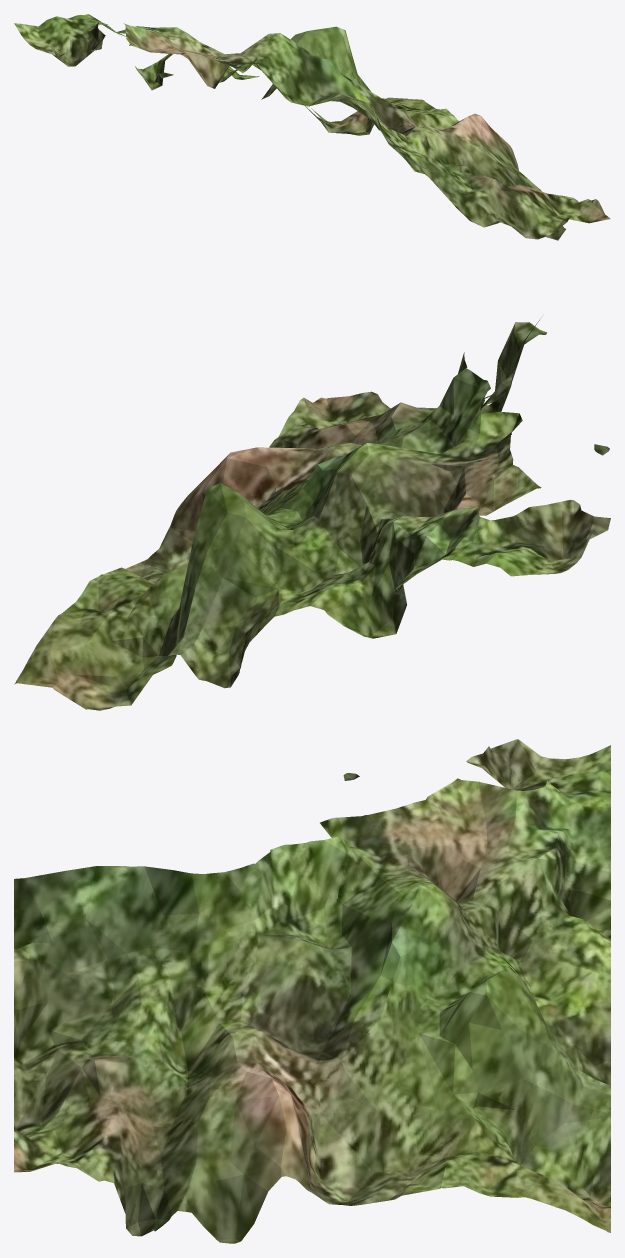
The picture shows the model from 3 angles, top to bottom: view 1: azimuth 30°, elevation 25°; view 2: azimuth 150°, elevation 25°; view 3: azimuth 270°, elevation 25°; orthographic projection. The views are drawn at different scales.
Bounding box in the file's own units: 2.95 × 1.38 × 2.95.
Materials: 2 (2 with a texture image).
